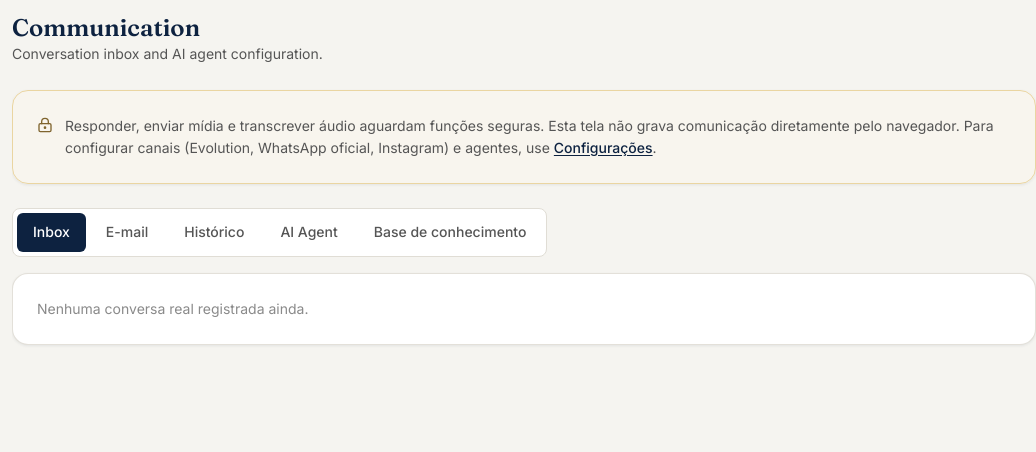
Test: ComunicacaoRealPage — caminho para configurar o agente › aba Agente IA sem agente: também leva a Configurações
Click the tab "AI Agent" at (309, 233), box [264, 213, 354, 252]
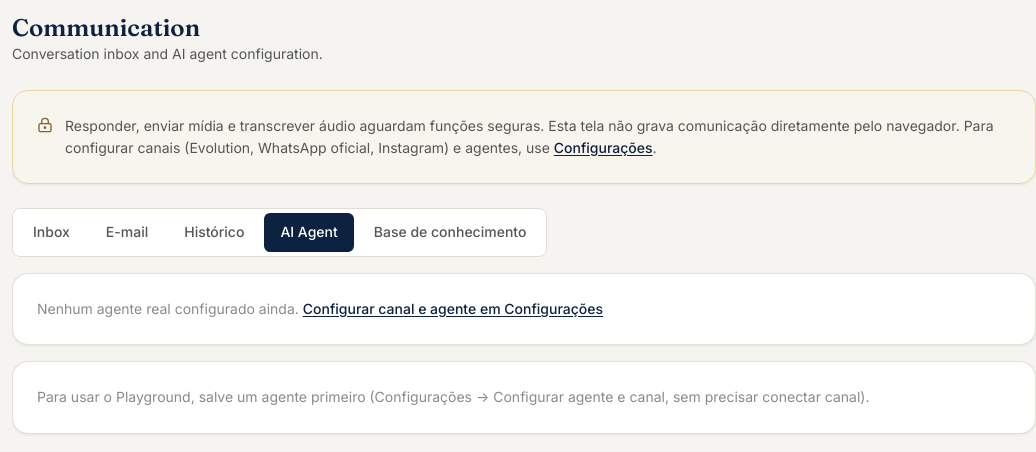
Expected: the text "Nenhum agente real configurado" is shown, [37, 300, 303, 317]
